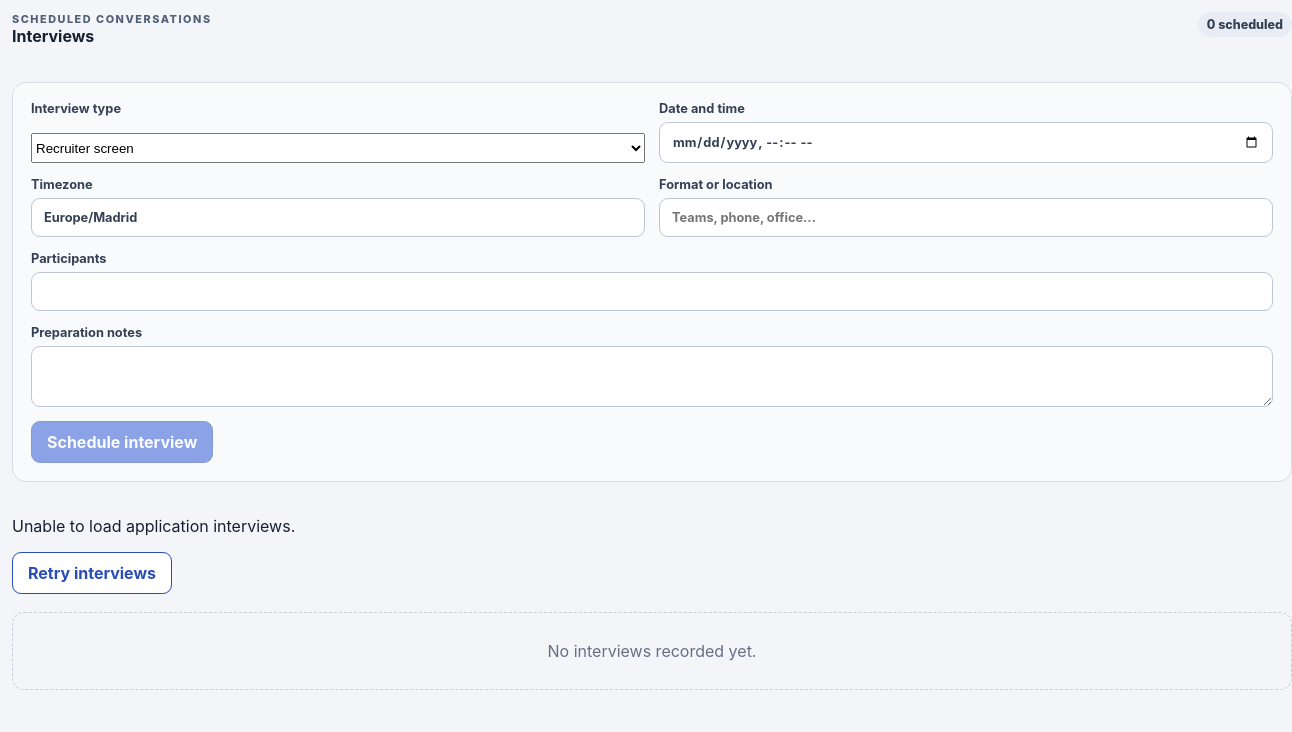
it: ApplicationInterviews › retries an initial load failure
Check: the message shows "Unable to load application interviews.", box [12, 516, 295, 536]
Step 1. Click the button "Retry interviews" → (92, 573), box [12, 552, 172, 594]
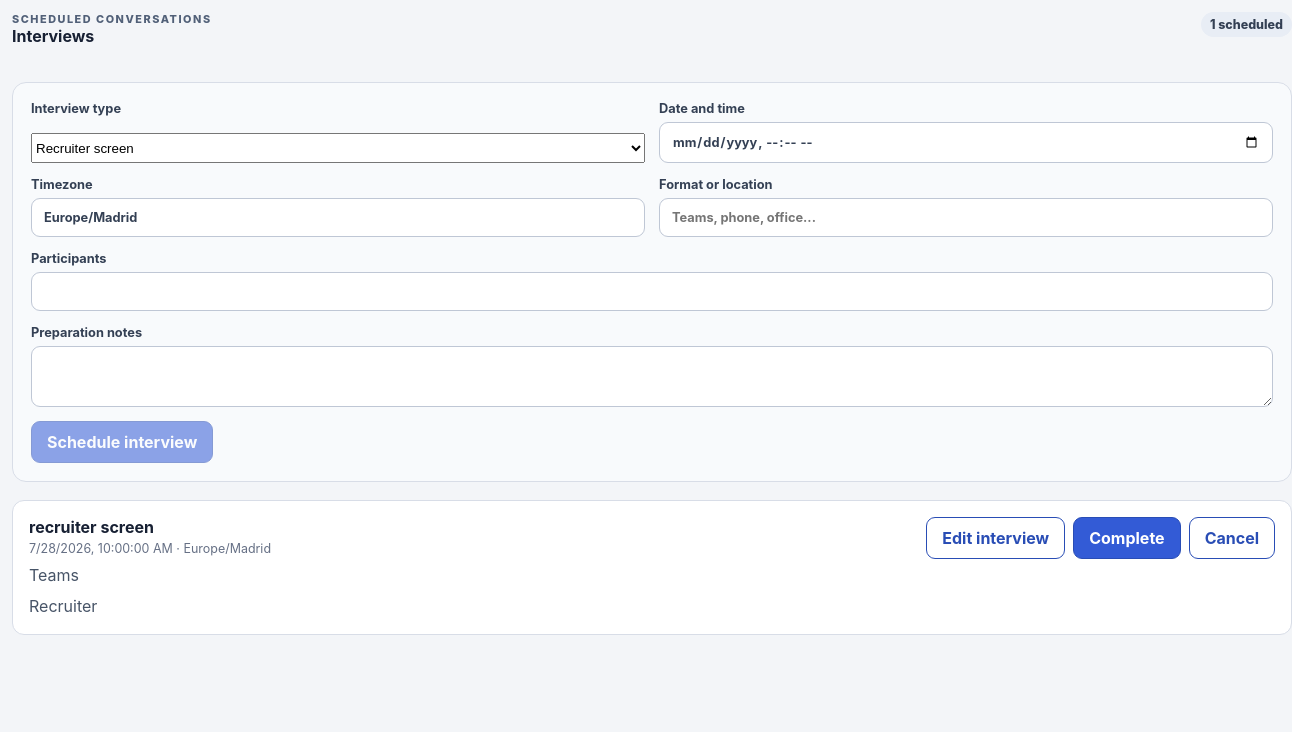
Check: the text "recruiter screen" is shown, box [29, 517, 154, 537]
